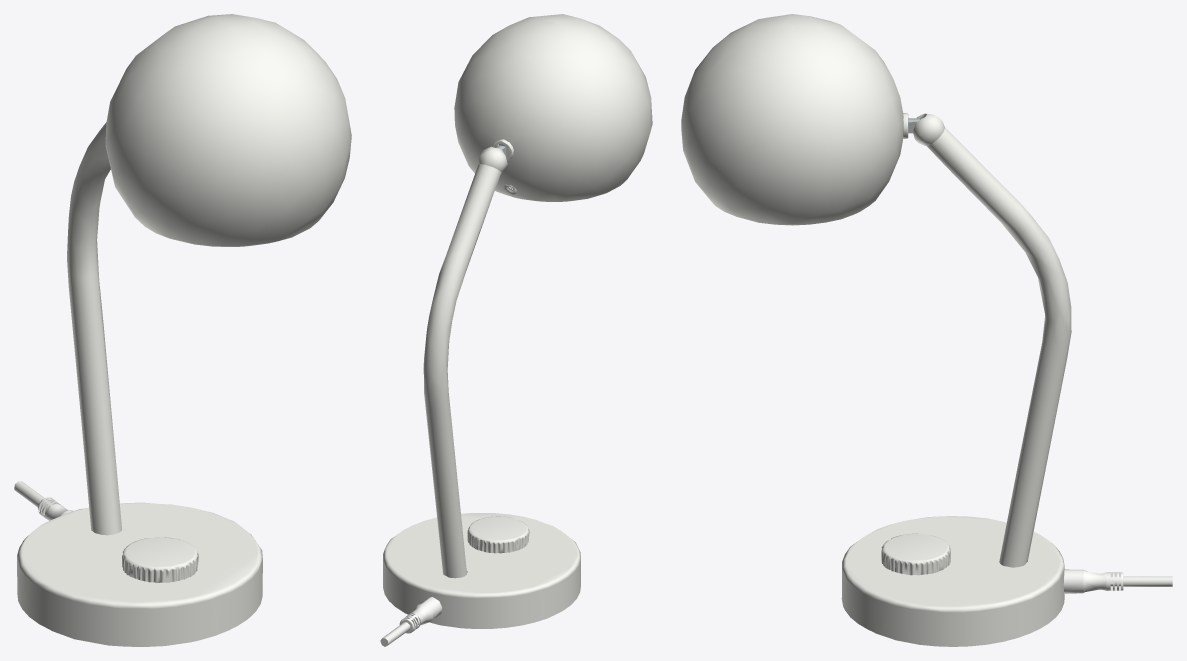
The model's file is korvsnore_lampka_na_biurko_led_80585837.glb.
3 views of the same model, side by side, from view 1: azimuth 30°, elevation 25°; view 2: azimuth 150°, elevation 25°; view 3: azimuth 270°, elevation 25° (orthographic). The views are drawn at different scales.
Parts seen in each view (by area): view 1: korvsnore_lampka_na_biurko_led_80585837; view 2: korvsnore_lampka_na_biurko_led_80585837; view 3: korvsnore_lampka_na_biurko_led_80585837.
Part boxes in pixels (x1,y1,x2,y2): korvsnore_lampka_na_biurko_led_80585837: (14, 14, 351, 646); korvsnore_lampka_na_biurko_led_80585837: (380, 14, 652, 646); korvsnore_lampka_na_biurko_led_80585837: (681, 14, 1172, 646).
Bounding box in the file's own units: 0.1208 × 0.3433 × 0.265.
Materials: 2 (2 with a texture image).
